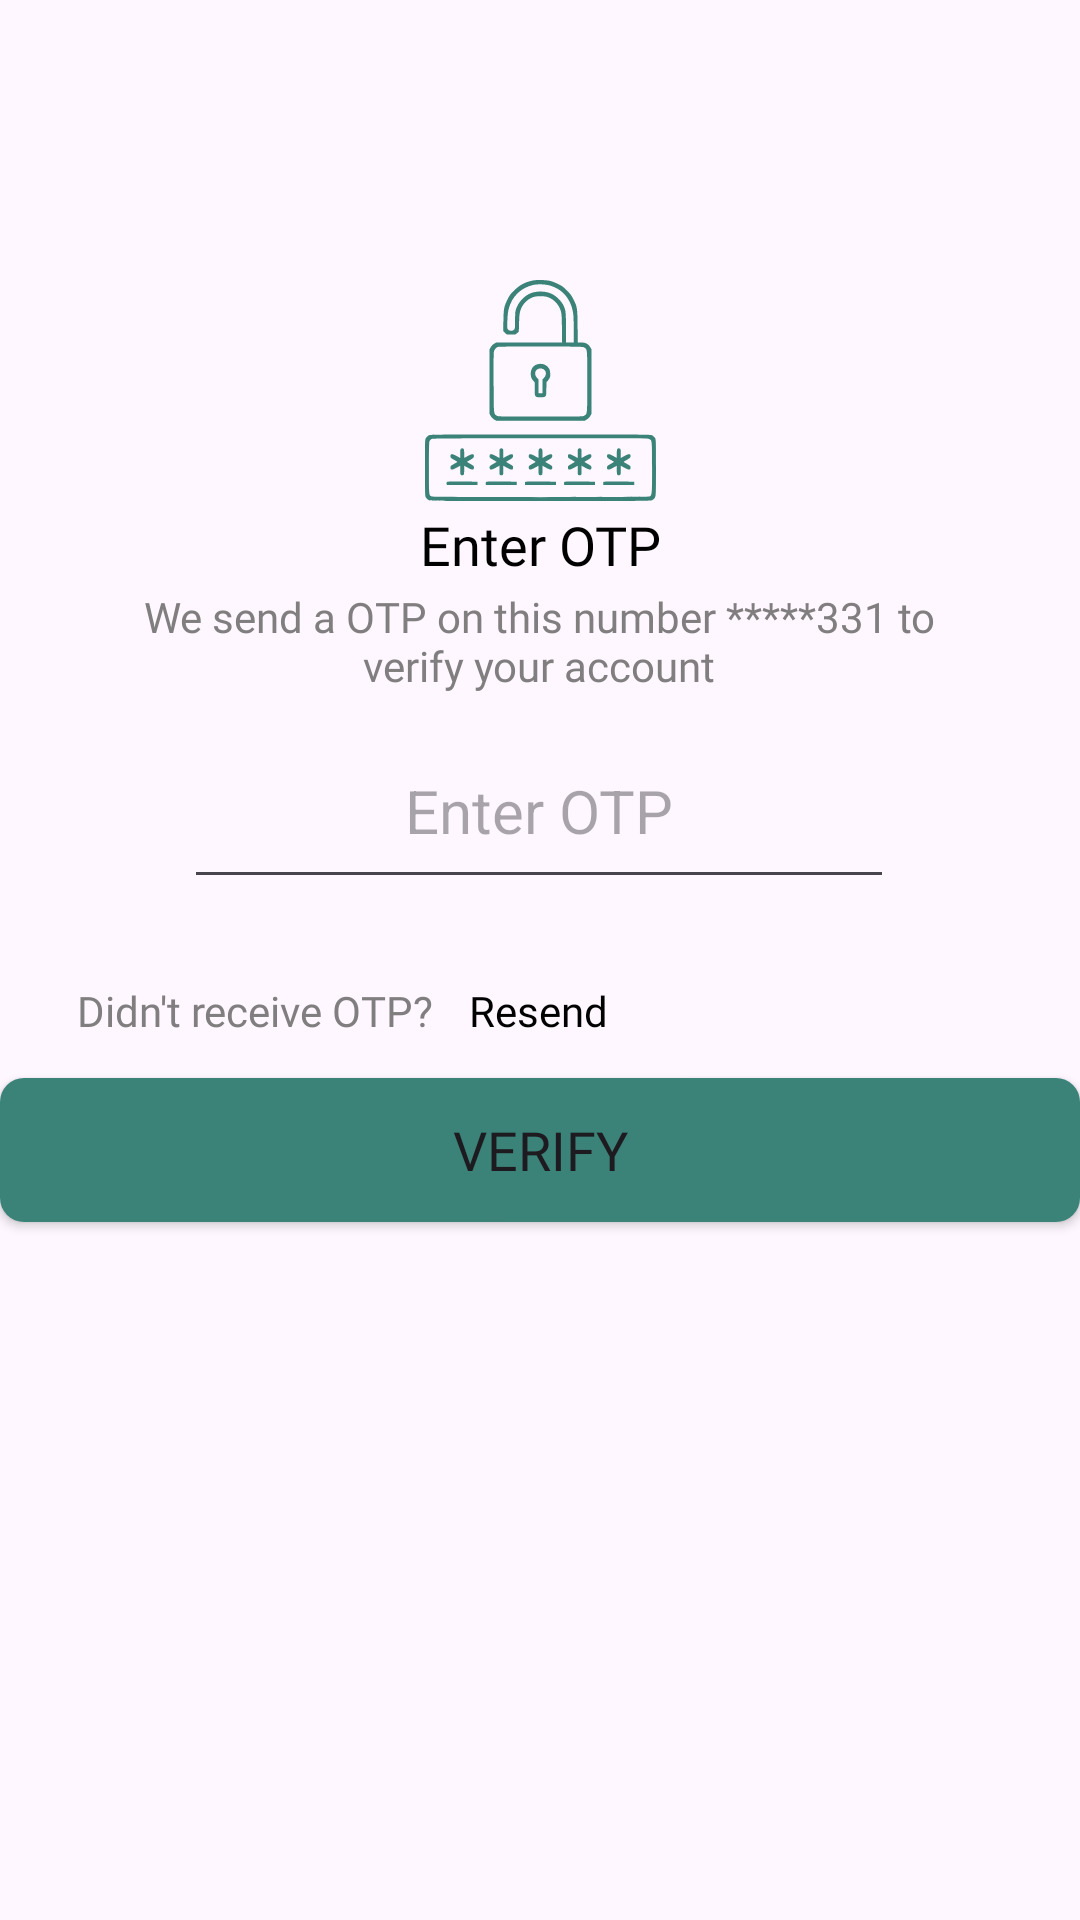

Named icons in this screenshot (1080 x 1920) and their centers, point (x, y):
lock: point (540, 390)
